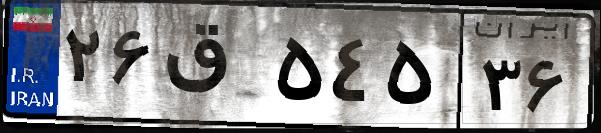2: (57, 26, 110, 100)
3: (475, 38, 525, 113)
4: (330, 28, 385, 110)
5: (270, 28, 330, 110), (385, 28, 445, 110)
6: (525, 38, 570, 115), (110, 28, 158, 98)
ق: (158, 20, 270, 120)
